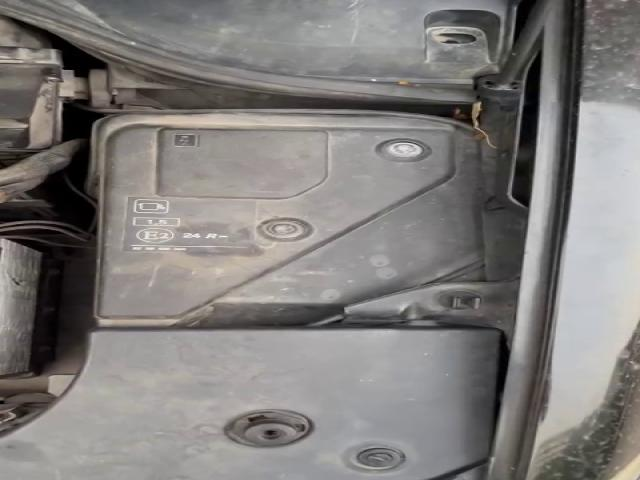fuse_box: (97, 129, 458, 318)
